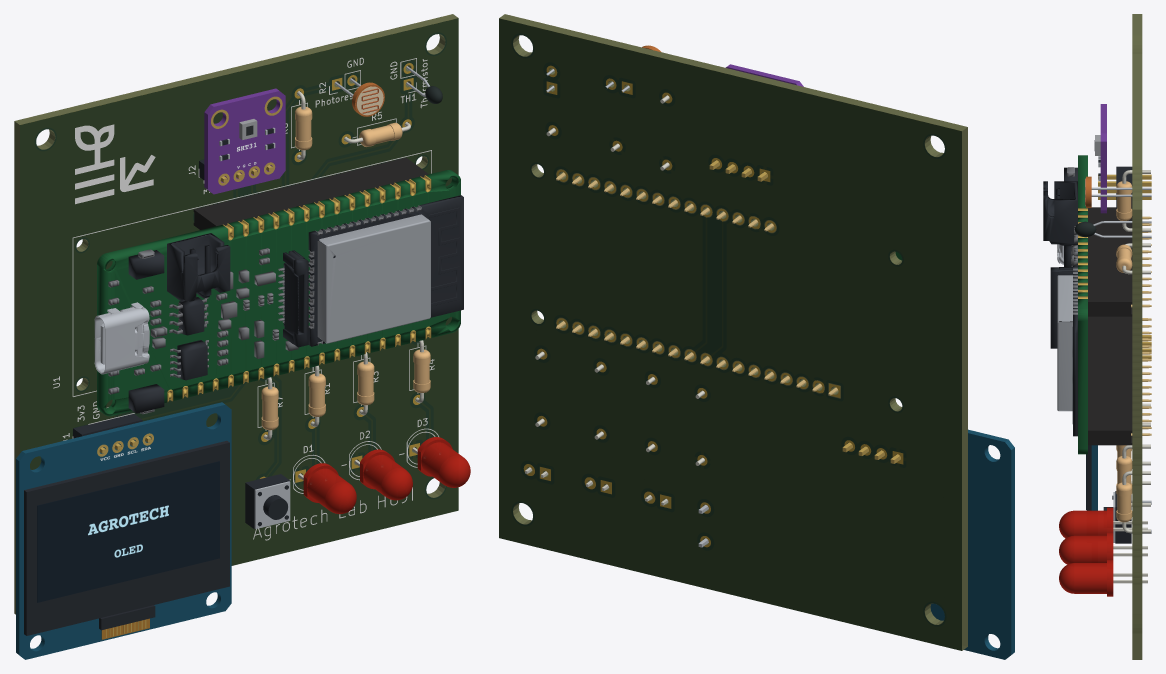
File: pcb-assembly.glb
3 views of the same model, side by side, from view 1: azimuth 30°, elevation 25°; view 2: azimuth 150°, elevation 25°; view 3: azimuth 270°, elevation 25° (orthographic). The views are drawn at different scales.
Parts seen in each view (by area): view 1: SHAPE_4, SHAPE_3, DFR0654-part-0, Module PCB (×2), OLED active area, OLED glass, DFR0654-part-55, SHAPE_7, SHAPE_2, DFR0654-part-81, U1-row-14, SHAPE_1 (+22 smaller); view 2: SHAPE_6, SHAPE_5, SHAPE_1, Module PCB, SHAPE_2, U1-row-18; view 3: SHAPE_2, U1-row-18, U1-row-14, DFR0654-part-0, DFR0654-part-55, DFR0654-part-138, D3, D2, D1, Module PCB (×2), DFR0654-part-81, R4 (+10 smaller).
Part boxes in pixels (x1,y1,x2,y2): SHAPE_4: [20, 18, 458, 565]; SHAPE_3: [20, 19, 457, 564]; DFR0654-part-0: [97, 170, 460, 416]; Module PCB (×2): [16, 88, 285, 659]; OLED active area: [37, 461, 219, 602]; OLED glass: [24, 440, 229, 635]; DFR0654-part-55: [317, 214, 430, 343]; SHAPE_7: [53, 57, 438, 540]; SHAPE_2: [14, 14, 457, 614]; DFR0654-part-81: [308, 195, 463, 346]; U1-row-14: [193, 157, 428, 229]; SHAPE_1: [25, 20, 447, 498]; SHAPE_6: [499, 18, 961, 650]; SHAPE_5: [499, 18, 961, 649]; SHAPE_1: [505, 19, 956, 625]; Module PCB: [930, 429, 1014, 659]; SHAPE_2: [499, 14, 967, 650]; U1-row-18: [556, 321, 838, 395]; SHAPE_2: [1132, 14, 1142, 659]; U1-row-18: [1088, 316, 1151, 445]; U1-row-14: [1088, 207, 1151, 316]; DFR0654-part-0: [1078, 155, 1087, 454]; DFR0654-part-55: [1057, 275, 1072, 411]; DFR0654-part-138: [1043, 181, 1077, 244]; D3: [1059, 560, 1147, 596]; D2: [1059, 533, 1147, 564]; D1: [1059, 507, 1147, 538]; Module PCB (×2): [1091, 104, 1106, 510]; DFR0654-part-81: [1072, 265, 1077, 436]; R4: [1116, 471, 1150, 533].
Size of the model in its own units: 0.0772 by 0.0823 by 0.0172.
1301 materials, 5 textured.
